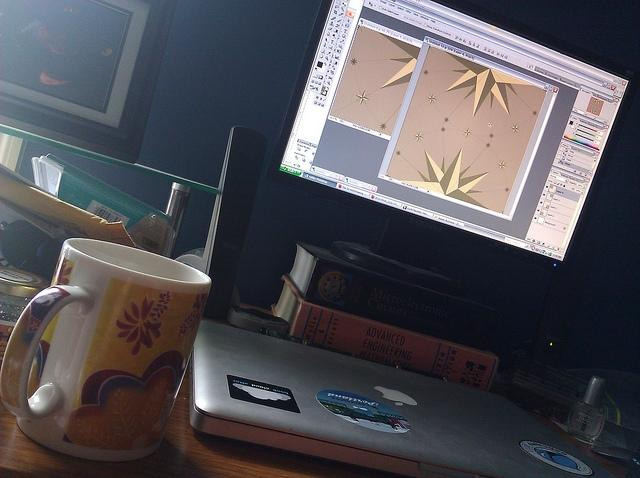apple: (374, 386, 418, 406)
